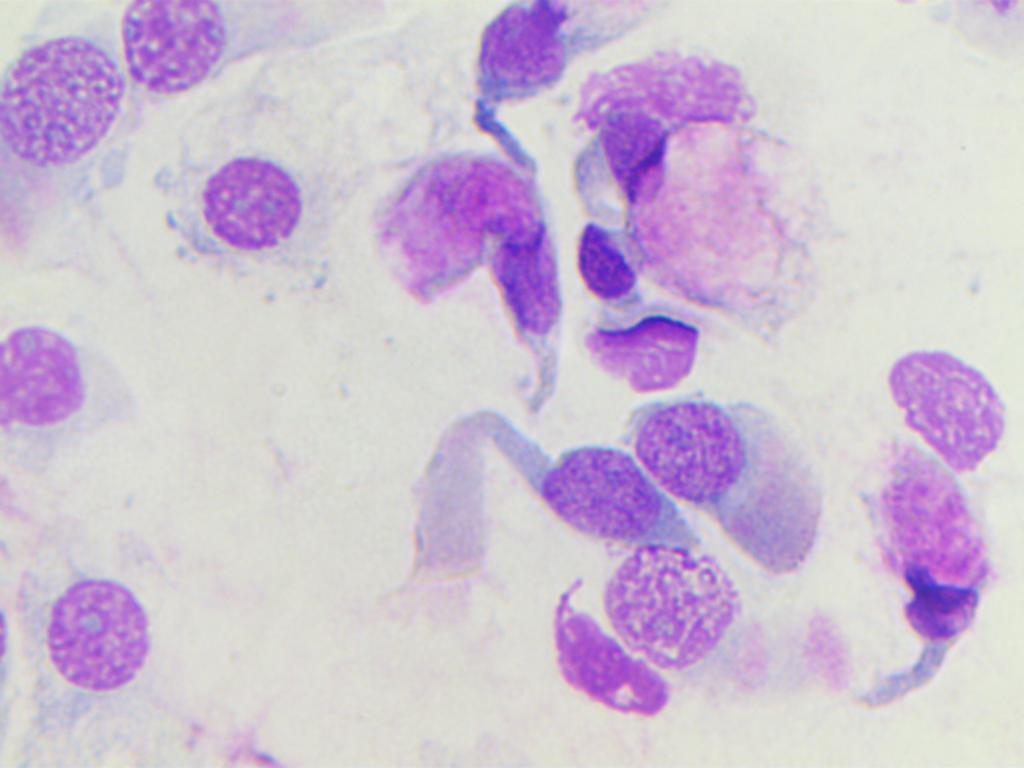artifact: (525, 609, 690, 720), (579, 51, 761, 114)
ciliated: (369, 400, 656, 638)
epithelial: (154, 127, 352, 294), (15, 545, 179, 732), (644, 391, 803, 548), (0, 30, 131, 189), (3, 305, 140, 456), (879, 338, 1020, 482), (600, 541, 747, 667), (104, 0, 244, 108)
goblet_cell: (369, 142, 572, 354), (858, 426, 997, 654), (593, 102, 758, 262), (581, 278, 725, 396), (479, 3, 651, 95), (575, 214, 659, 310)
